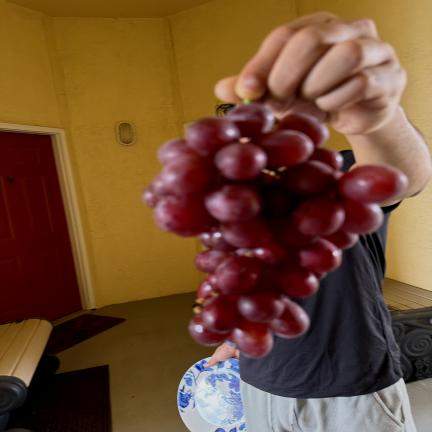grape_cluster: (143, 99, 408, 358)
